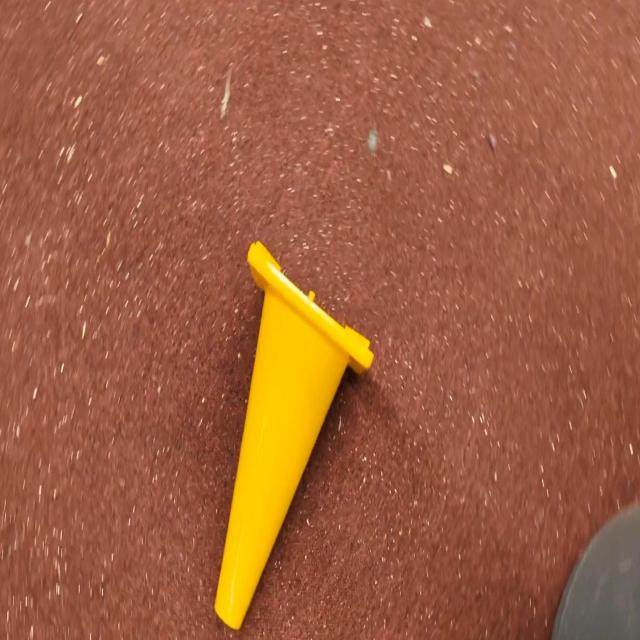frc_cone: (210, 239, 376, 639)
